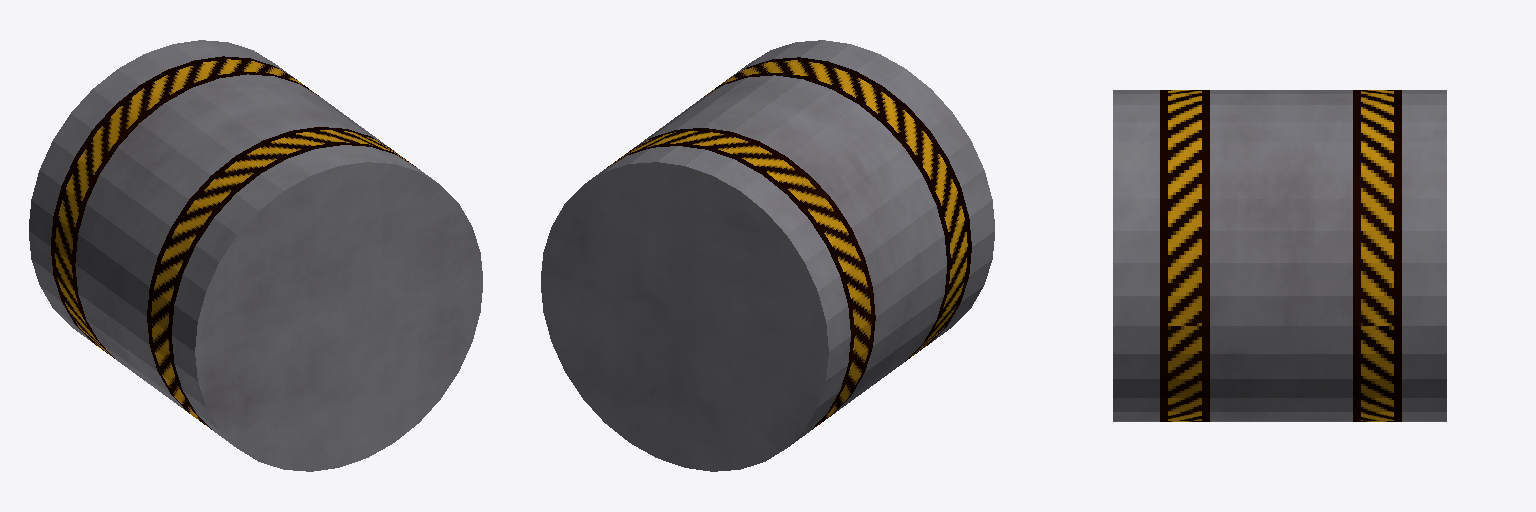
3 renders of one model, left to right at view 1: azimuth 30°, elevation 25°; view 2: azimuth 150°, elevation 25°; view 3: azimuth 270°, elevation 25°, orthographic.
Parts seen in each view (by area): view 1: TankBody; view 2: TankBody; view 3: TankBody.
Boxes of the visible parts, x1=… form: TankBody: x1=29, y1=40, x2=482, y2=471; TankBody: x1=541, y1=40, x2=994, y2=471; TankBody: x1=1113, y1=90, x2=1446, y2=421.
Size of the model in its own units: 1 by 1 by 1.
1 materials, 1 textured.